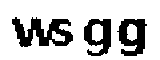g: (116, 17, 149, 60), (82, 17, 115, 59)
s: (54, 15, 77, 49)
w: (10, 16, 54, 49)
